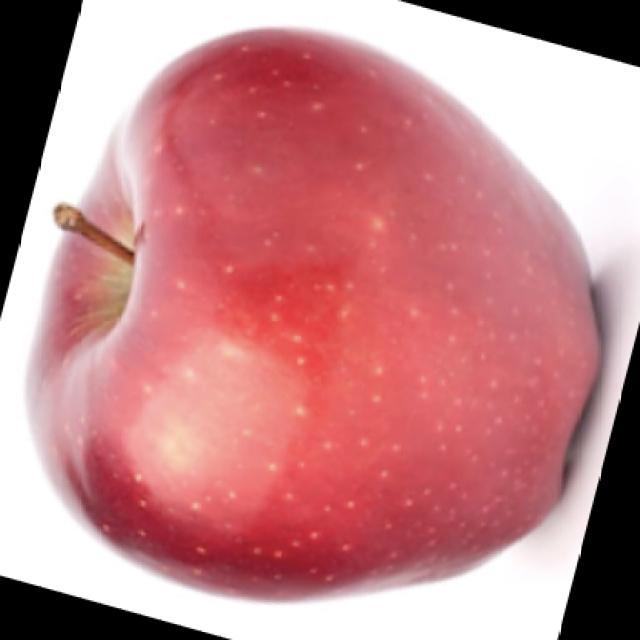Fresh Apple: (67, 49, 610, 568)
